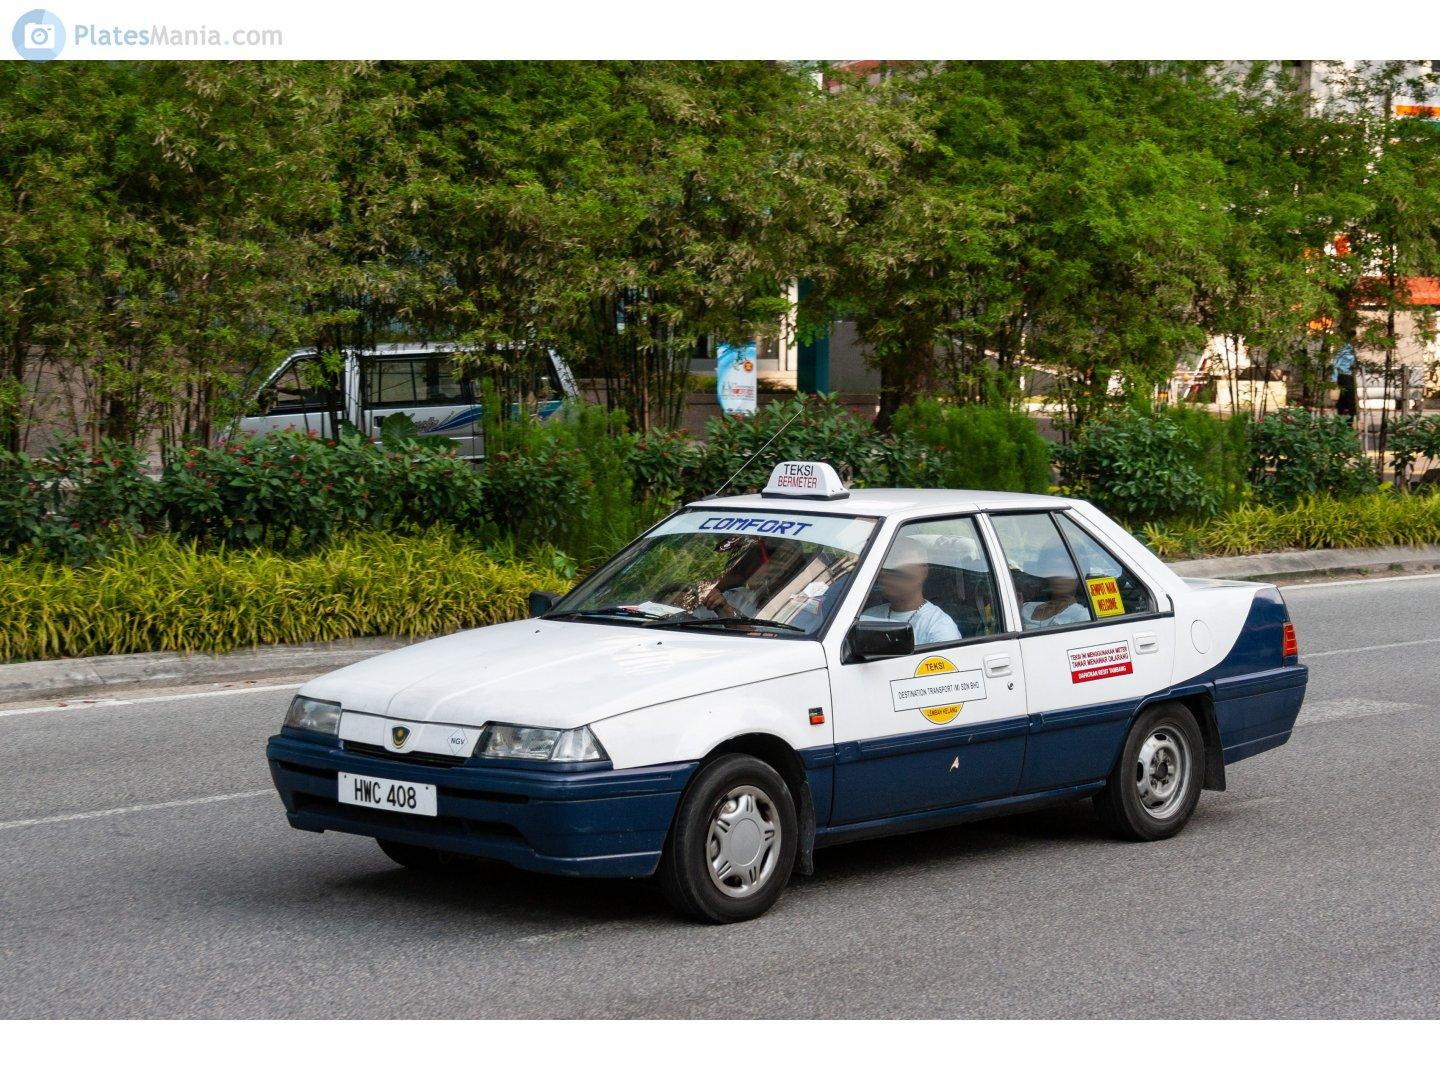License Plate: (340, 775, 434, 818)
